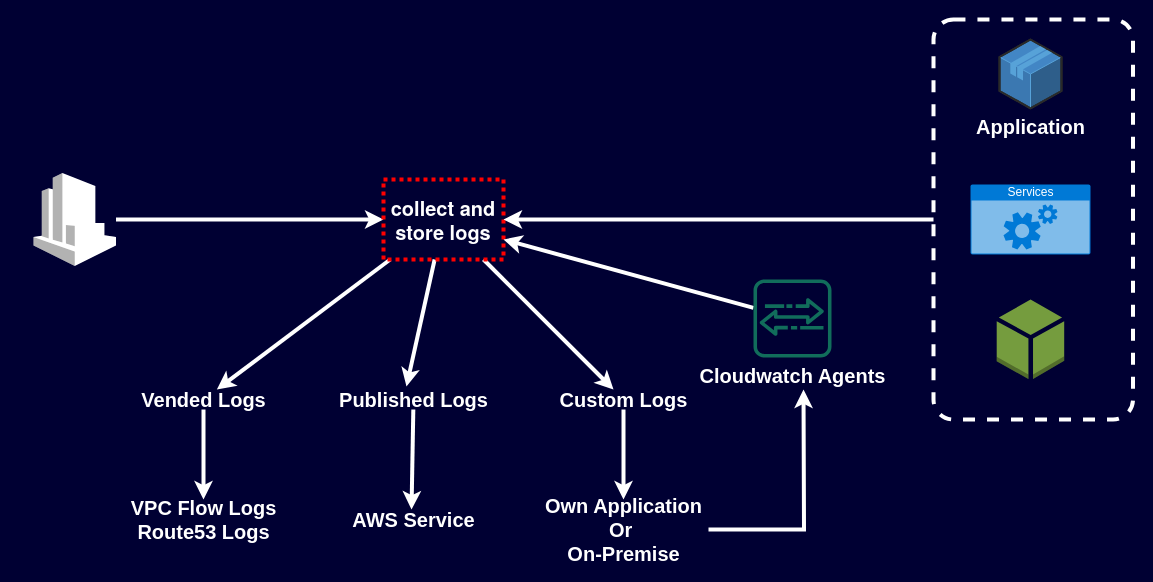
The diagram is 1153 pixels wide and 582 high, and some of its shapes have lost their labels. Here are the shapes that lost their labels. From the top down, the centre of each, then its label:
At point (74, 219): "CloudWatch".
At point (1030, 338): "Resources".
